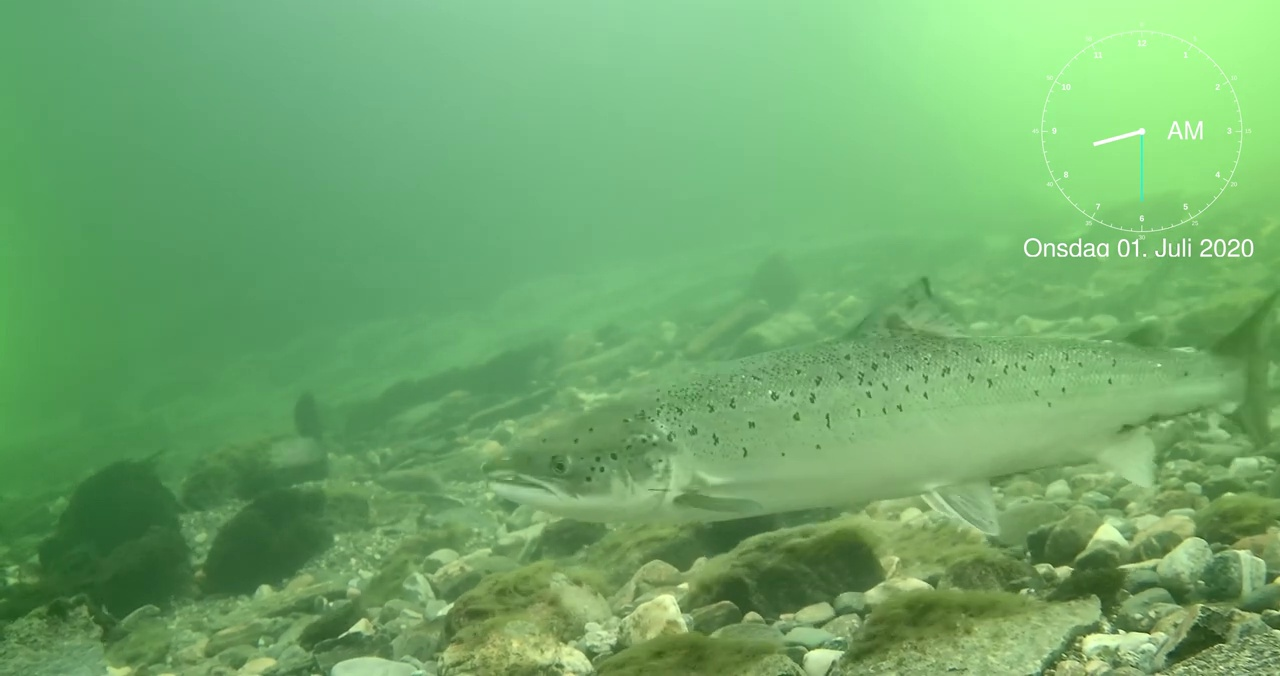salmon: (478, 275, 1278, 539)
